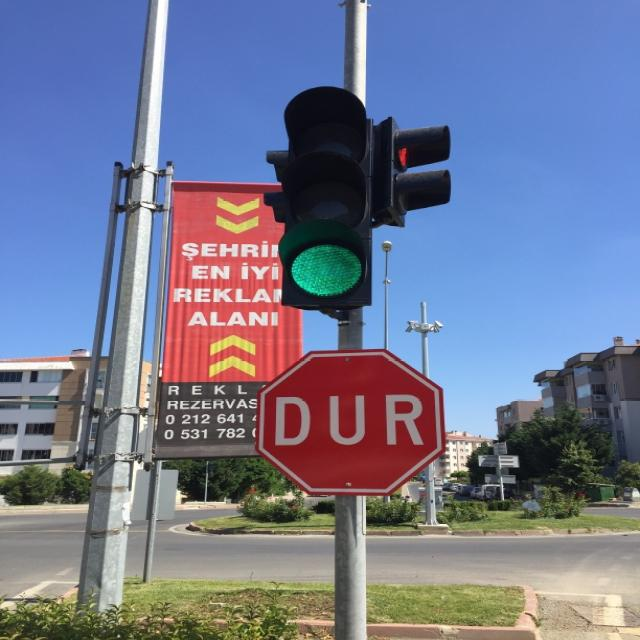dur: (258, 351, 444, 495)
yesil: (282, 87, 373, 308)
